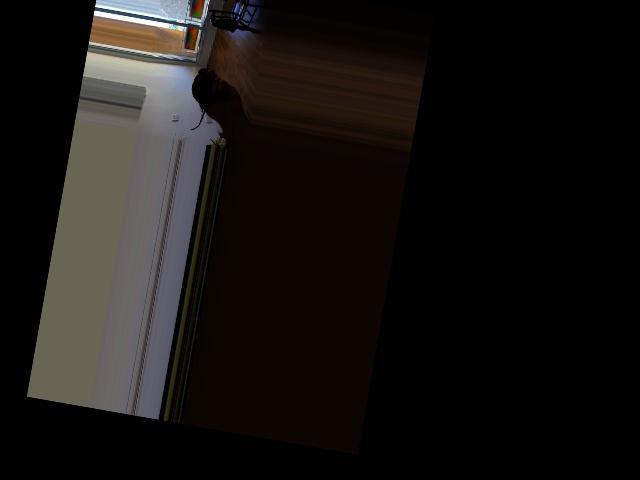beet: (185, 65, 217, 132)
